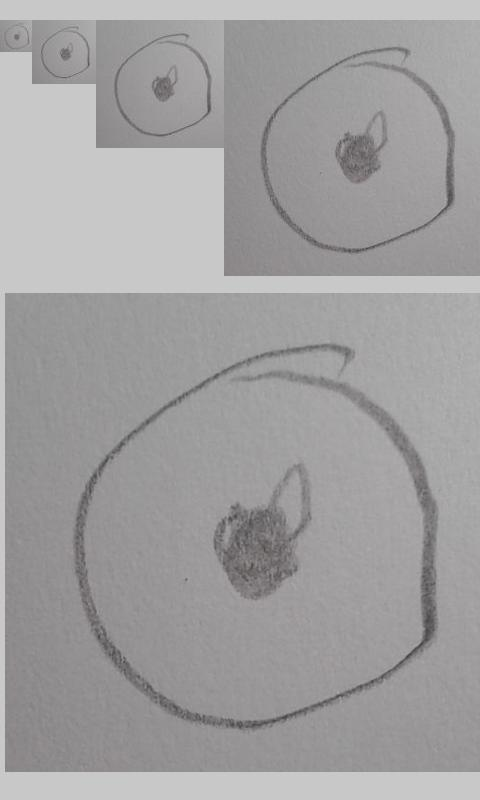radio_button: (69, 341, 440, 736), (258, 45, 457, 255), (113, 33, 212, 138), (39, 25, 91, 79), (3, 22, 30, 50)
